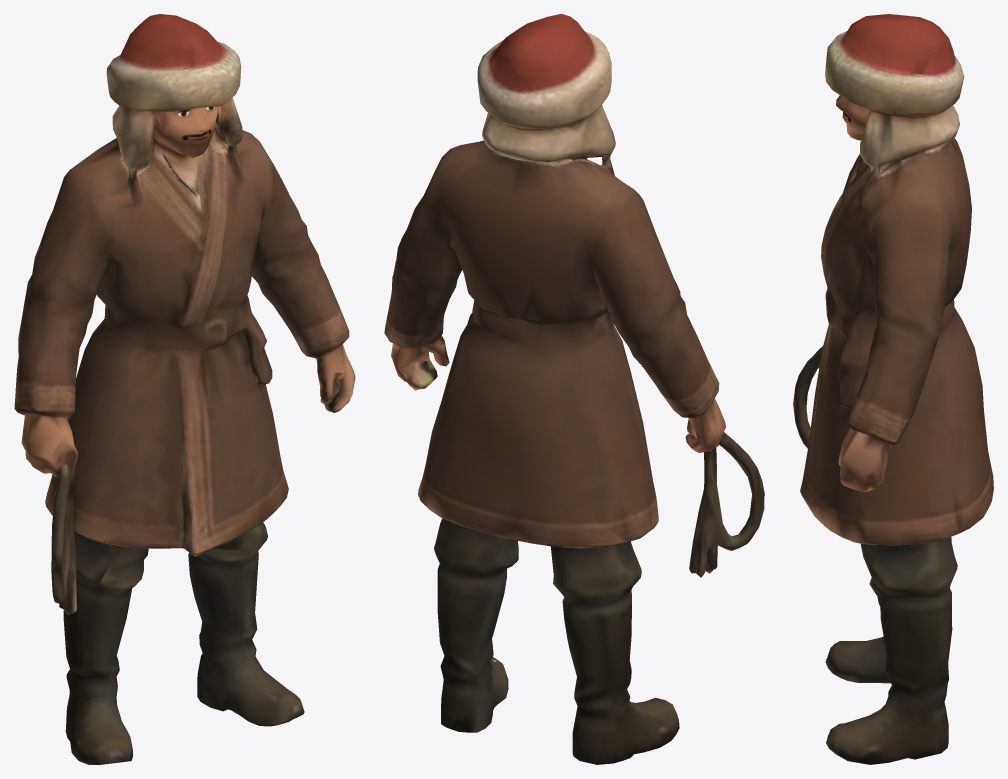
The model's file is herder-dauren.gen.glb.
3 renders of one model, left to right at view 1: azimuth 30°, elevation 25°; view 2: azimuth 150°, elevation 25°; view 3: azimuth 270°, elevation 25°, orthographic.
Parts seen in each view (by area): view 1: herder-dauren.raw; view 2: herder-dauren.raw; view 3: herder-dauren.raw.
Part boxes in pixels (x1,y1,x2,y2): herder-dauren.raw: (14,14,355,764); herder-dauren.raw: (384,14,764,764); herder-dauren.raw: (793,14,993,764).
Size of the model in its own units: 0.9166 by 1.85 by 0.4826.
1 material, 1 textured.
